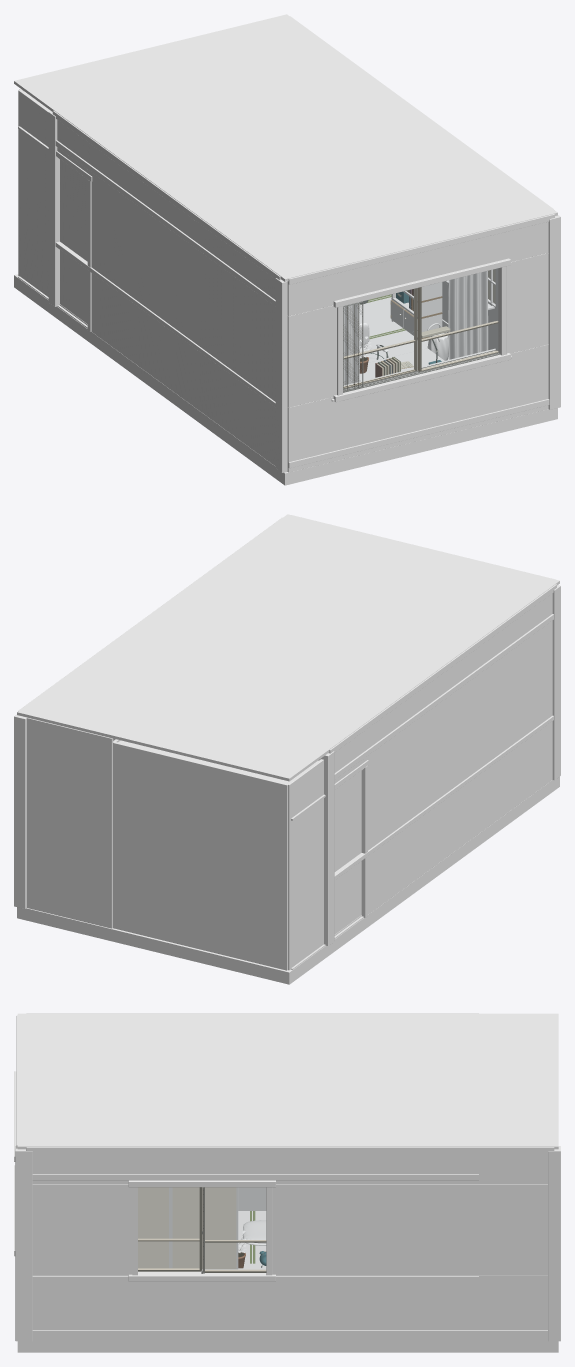
Rendered from bedroom-v12.glb.
The picture shows the model from 3 angles, top to bottom: view 1: azimuth 30°, elevation 25°; view 2: azimuth 150°, elevation 25°; view 3: azimuth 270°, elevation 25°; orthographic projection.
Parts seen in each view (by area): view 1: Ceiling, Wall_West, Wall_Front, Glass_Front, Floor, Window_Front_Frame, Closet_Carcass, v12_nobita_slide, Curtain_Right, Side_Cabinet, Curtain_Left, Window_Front_Detail (+2 smaller); view 2: Ceiling, Wall_West, Closet_Carcass, Alcove, Floor, v12_nobita_slide, Wall_East; view 3: Wall_East, Ceiling, Glass_East, Floor, Window_East_Shoji, Window_East_Frame, Wall_Front, Wall_West, Floor_Quilts, Window_Front_Frame.
Boxes of the visible parts, bbox=[...] form: Ceiling: bbox=[14, 14, 557, 281]; Wall_West: bbox=[48, 110, 287, 472]; Wall_Front: bbox=[287, 214, 560, 472]; Glass_Front: bbox=[344, 269, 497, 386]; Floor: bbox=[14, 274, 557, 485]; Window_Front_Frame: bbox=[331, 258, 511, 402]; Closet_Carcass: bbox=[18, 89, 50, 296]; v12_nobita_slide: bbox=[59, 159, 87, 325]; Curtain_Right: bbox=[448, 271, 488, 359]; Side_Cabinet: bbox=[390, 282, 442, 339]; Curtain_Left: bbox=[343, 302, 359, 385]; Window_Front_Detail: bbox=[343, 301, 500, 392]; Ceiling: bbox=[17, 514, 559, 781]; Wall_West: bbox=[318, 584, 560, 945]; Closet_Carcass: bbox=[113, 739, 323, 970]; Alcove: bbox=[26, 717, 113, 928]; Floor: bbox=[17, 776, 559, 984]; v12_nobita_slide: bbox=[334, 771, 361, 935]; Wall_East: bbox=[14, 517, 282, 908]; Wall_East: bbox=[20, 1146, 560, 1341]; Ceiling: bbox=[17, 1013, 558, 1149]; Glass_East: bbox=[138, 1188, 265, 1270]; Floor: bbox=[17, 1211, 558, 1352]; Window_East_Shoji: bbox=[138, 1187, 238, 1269]; Window_East_Frame: bbox=[128, 1180, 275, 1281]; Wall_Front: bbox=[15, 1015, 27, 1341]; Wall_West: bbox=[26, 1013, 478, 1210]; Floor_Quilts: bbox=[243, 1220, 266, 1245]; Window_Front_Frame: bbox=[14, 1071, 16, 1256].
Bounding box in the file's own units: 3.82 × 2.71 × 6.52.
55 materials, 22 textured.
